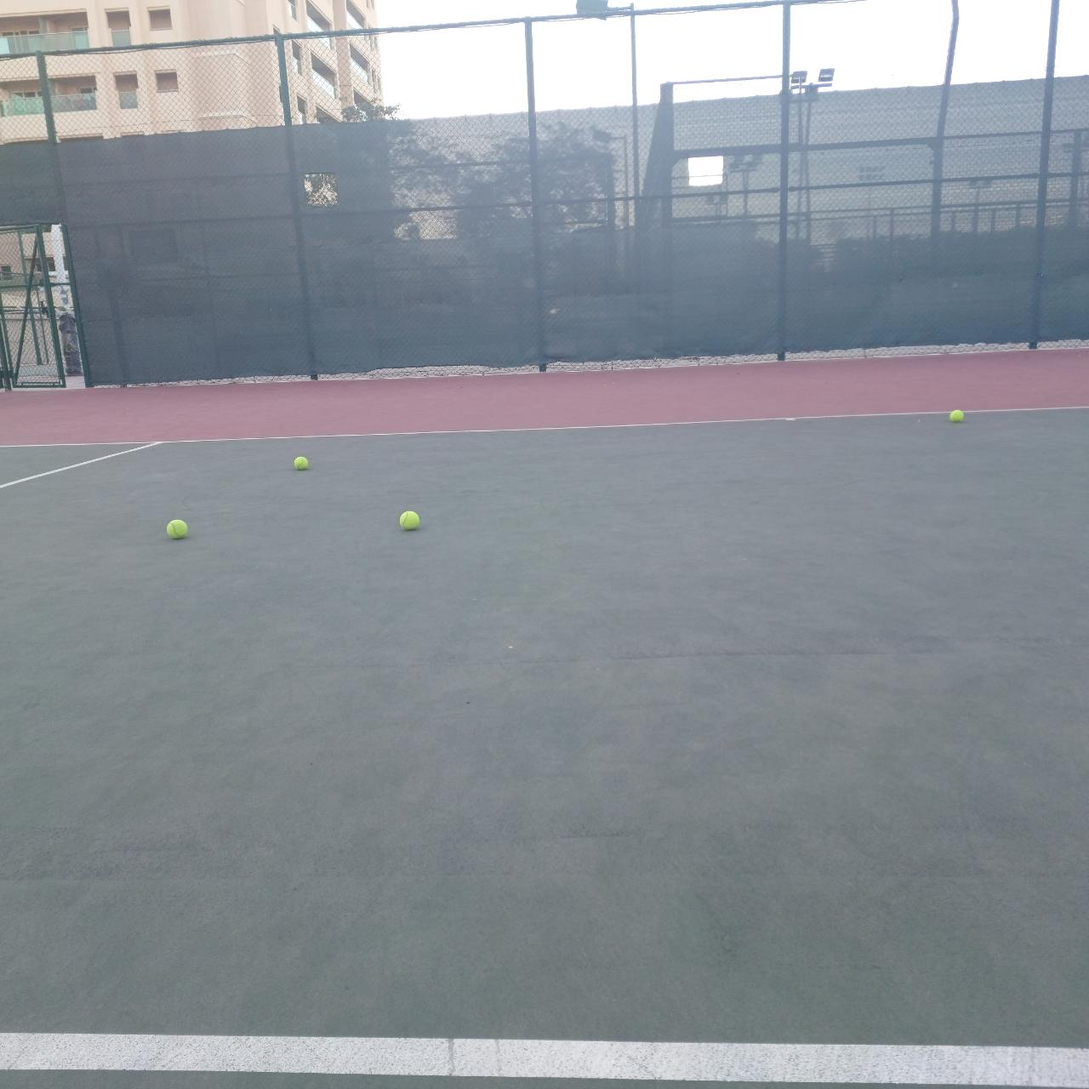tennis-ball: (166, 519, 188, 539), (399, 510, 420, 530), (294, 456, 308, 471), (949, 409, 964, 423)
